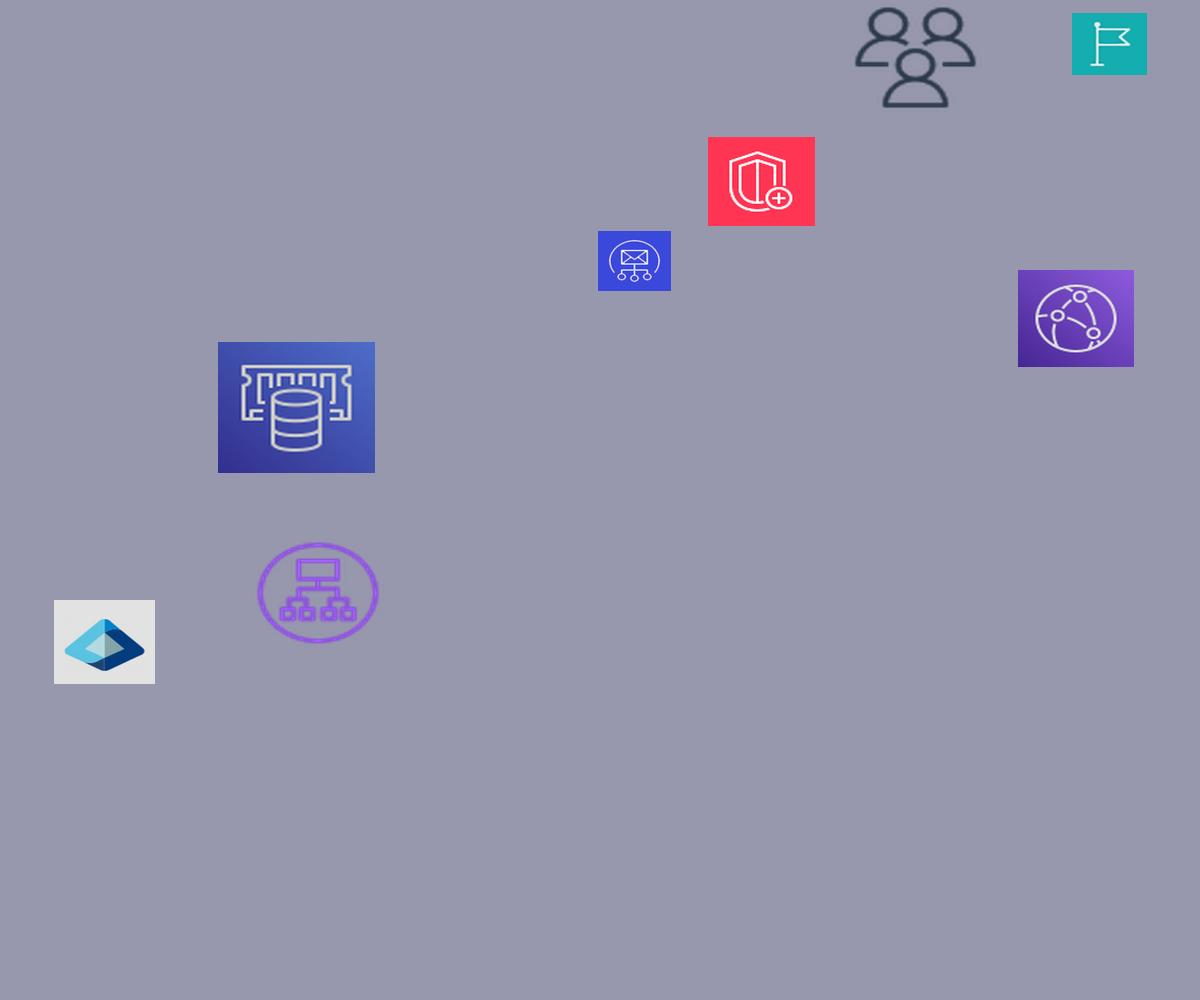AWS-CloudFront: (1018, 270, 1134, 367)
AWS-ElastiCache: (218, 342, 375, 473)
AWS-Region: (1072, 13, 1147, 75)
AWS-Res_Elastic-Load-Balancing_Application-Load-Balancer: (252, 538, 384, 648)
AWS-Res_Users: (850, 3, 981, 112)
AWS-Shield: (708, 137, 815, 226)
AWS-Simple-Email-Service: (598, 231, 671, 291)
Azure_microsoft_entra: (54, 600, 155, 684)
